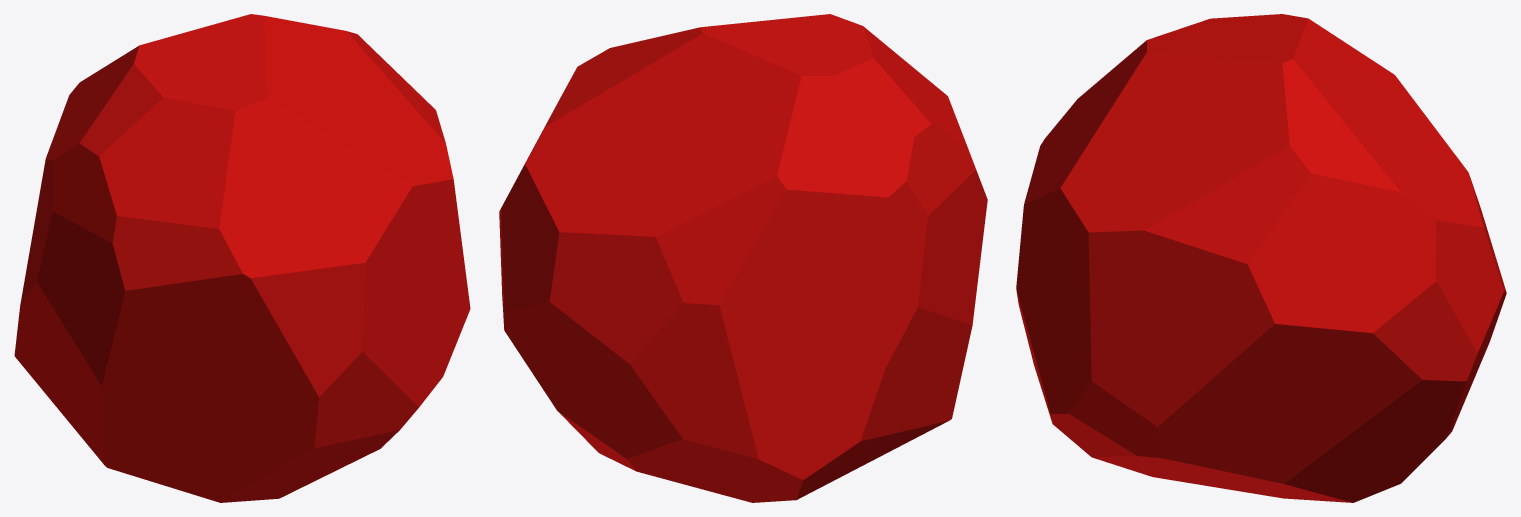
File: rock.obj
The picture shows the model from 3 angles, left to right: view 1: azimuth 30°, elevation 25°; view 2: azimuth 150°, elevation 25°; view 3: azimuth 270°, elevation 25°; orthographic projection. The views are drawn at different scales.
Parts seen in each view (by area): view 1: Cube.001; view 2: Cube.001; view 3: Cube.001.
Part boxes in pixels (<box>): Cube.001: <box>14,14,470,502</box>; Cube.001: <box>499,14,987,502</box>; Cube.001: <box>1016,14,1506,502</box>.
Bounding box in the file's own units: 1.84 × 1.95 × 1.93.
